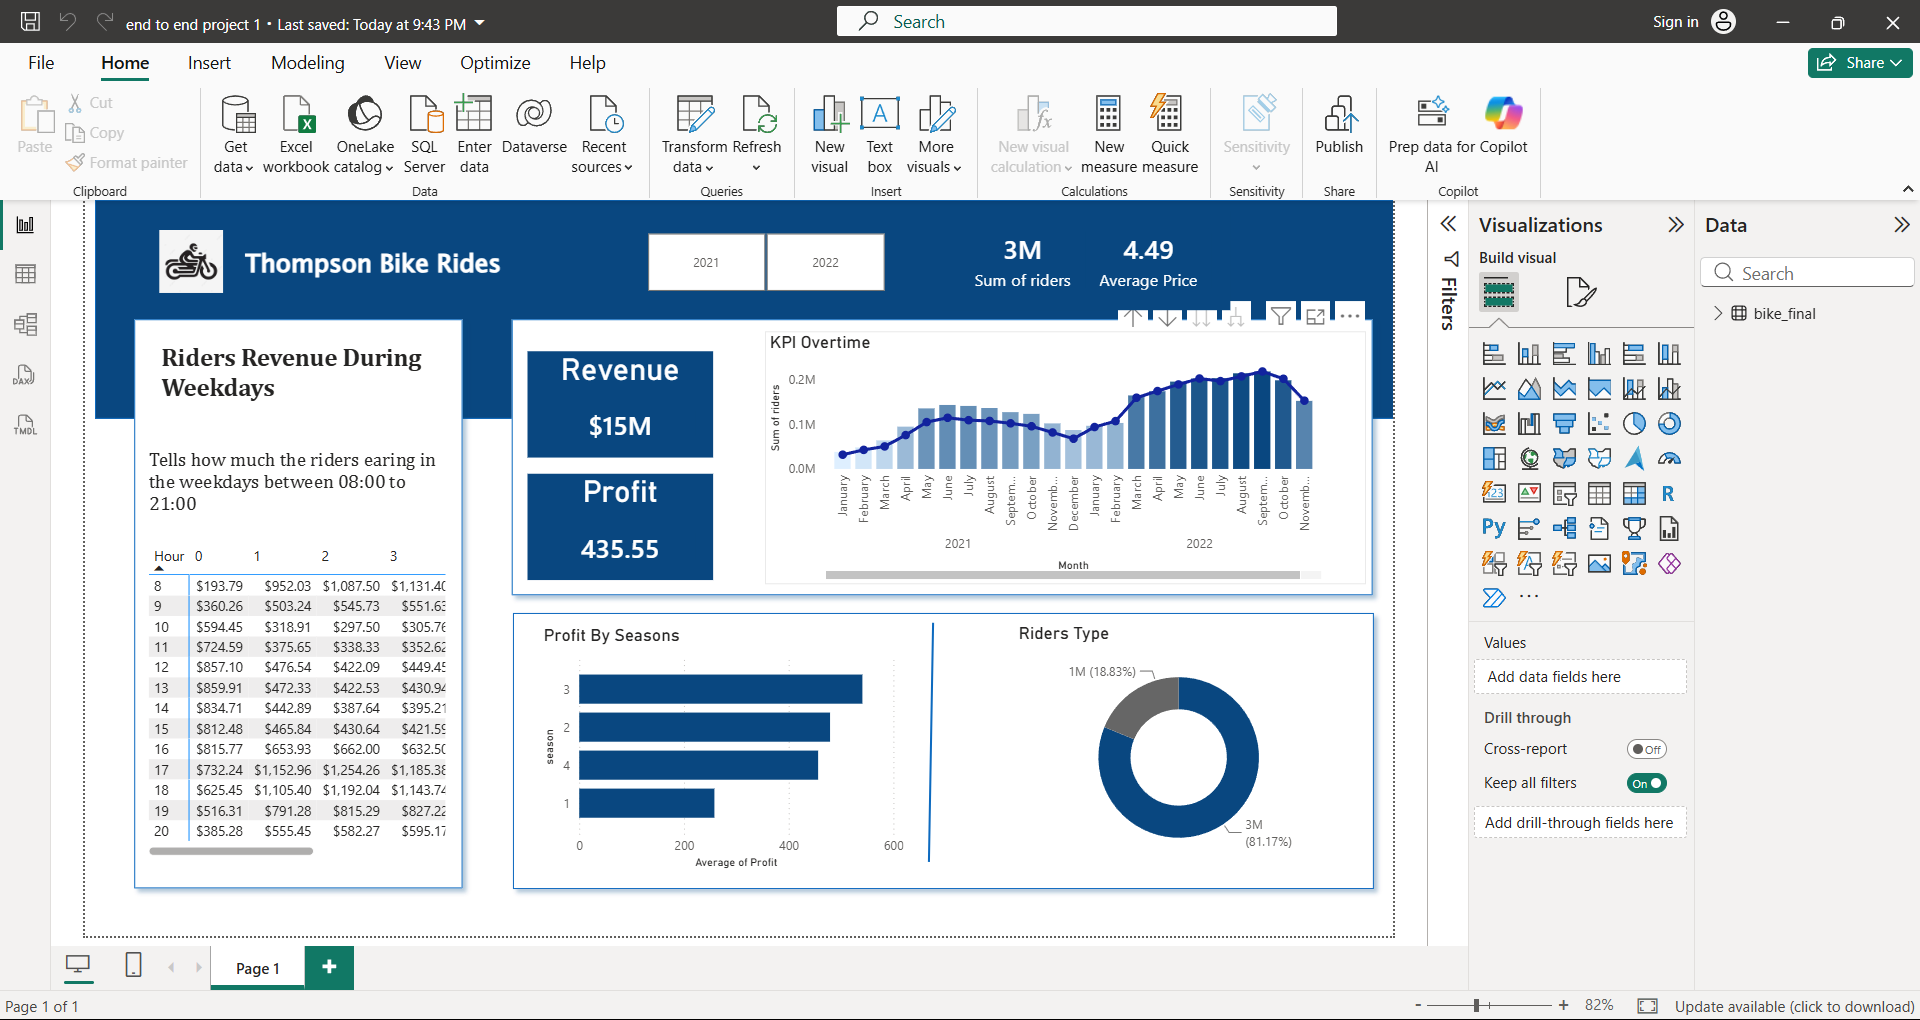

What the dashboard file says about the page in this screenshot:
{"tool":"powerbi","page":{"name":"Page 1","canvas":[1280,720],"ordinal":0},"visuals":[{"type":"shape","box":[9.6,0,1270.7,214.1],"z":0},{"type":"shape","box":[39,107.7,339.3,574.8],"z":1000},{"type":"shape","box":[407.9,107.7,860.2,288.1],"z":2000},{"type":"shape","box":[409.3,394.4,860.2,288.1],"z":3000},{"type":"textbox","box":[70,134.6,285.4,79.4],"z":4000},{"type":"pivotTable","fields":{"Rows":["bike_final.Hour"],"Columns":["bike_final.weekday"],"Values":["Avg(bike_final.revenue)"]},"box":[57.9,332.5,300.2,313.7],"z":5000},{"type":"textbox","box":[57.9,239.6,297.5,79.4],"z":6000},{"type":"lineClusteredColumnComboChart","title":"KPI Overtime","fields":{"Y2":["Avg(bike_final.revenue)"],"Y":["Sum(bike_final.riders)"],"Category":["bike_final.datetime.Variation.Date Hierarchy.Year","bike_final.datetime.Variation.Date Hierarchy.Month"]},"box":[665,127.9,588.3,247.7],"z":7000},{"type":"donutChart","title":"Riders Type ","fields":{"Category":["bike_final.rider_type"],"Y":["Sum(bike_final.riders)"]},"box":[908.7,413.3,323.1,243.7],"z":8000},{"type":"shape","box":[817.2,413.3,21.5,234.2],"z":9000},{"type":"barChart","title":"Profit By Seasons","fields":{"Category":["bike_final.season"],"Y":["Avg(bike_final.Profit)"]},"box":[444.3,416,362.1,243.7],"z":10000},{"type":"slicer","fields":{"Values":["bike_final.Years"]},"box":[525,25.6,281.4,70],"z":11000},{"type":"cardVisual","title":"Revenue","fields":{"Data":["Sum(bike_final.revenue)"]},"box":[433.5,148.1,181.7,103.7],"z":12000},{"type":"cardVisual","title":"Profit","fields":{"Data":["Avg(bike_final.Profit)"]},"box":[433.5,267.9,181.7,103.7],"z":13000},{"type":"cardVisual","title":"Revenue","fields":{"Data":["Sum(bike_final.riders)","Avg(bike_final.price)"]},"box":[838.7,10.8,281.4,96.9],"z":14000},{"type":"textbox","box":[152.1,39,281.4,56.5],"z":15000},{"type":"image","box":[57.9,29.6,92.9,61.9],"z":16000}]}

Visuals, with their boxes on the page's 1280x720 design canvas (x1, y1, x2, y2). These are canvas units, not pixel positions in the 1920x1020 screenshot, which may show the page scaled, cropped or inside an application window:
shape: (10, 0, 1280, 214)
shape: (39, 108, 378, 682)
shape: (408, 108, 1268, 396)
shape: (409, 394, 1270, 682)
textbox: (70, 135, 355, 214)
pivotTable - bike_final.Hour x bike_final.weekday: (58, 332, 358, 646)
textbox: (58, 240, 355, 319)
"KPI Overtime" lineClusteredColumnComboChart: (665, 128, 1253, 376)
"Riders Type " donutChart: (909, 413, 1232, 657)
shape: (817, 413, 839, 648)
"Profit By Seasons" barChart: (444, 416, 806, 660)
slicer - bike_final.Years: (525, 26, 806, 96)
"Revenue" cardVisual: (434, 148, 615, 252)
"Profit" cardVisual: (434, 268, 615, 372)
"Revenue" cardVisual: (839, 11, 1120, 108)
textbox: (152, 39, 434, 96)
image: (58, 30, 151, 92)
